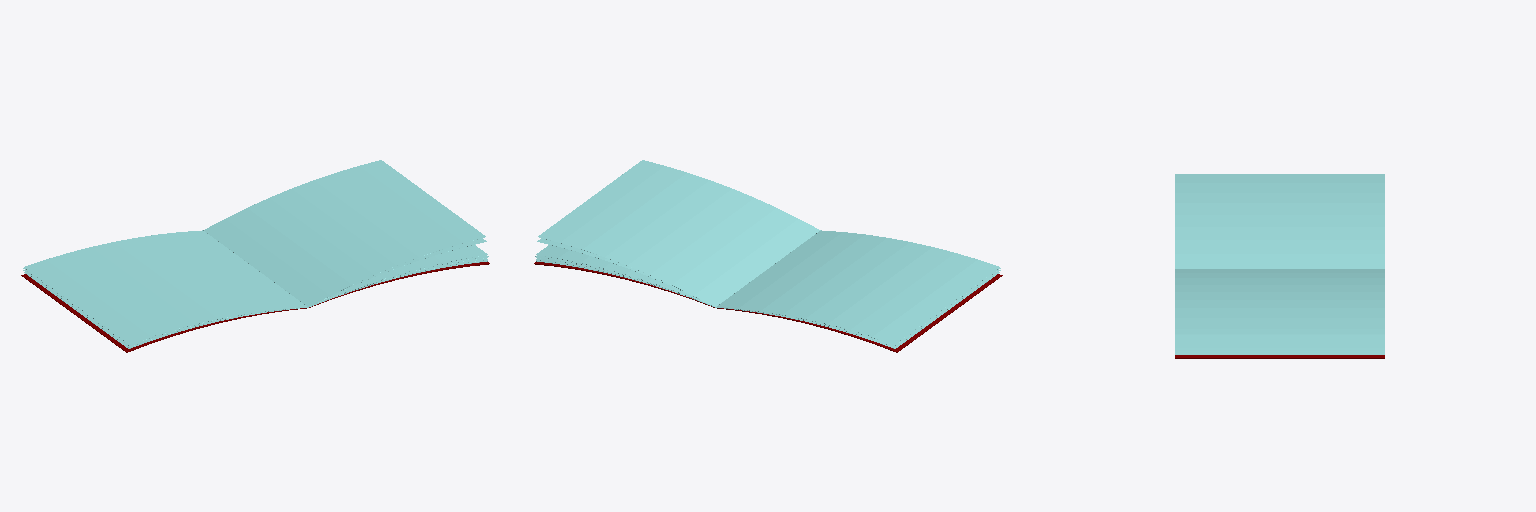
Rendered from bookmodel.obj.
3 renders of one model, left to right at view 1: azimuth 30°, elevation 25°; view 2: azimuth 150°, elevation 25°; view 3: azimuth 270°, elevation 25°, orthographic.
Parts seen in each view (by area): view 1: ChamferBox014, ChamferBox005, ChamferBox012, ChamferBox011; view 2: ChamferBox014, ChamferBox005, ChamferBox012, ChamferBox011; view 3: ChamferBox005, ChamferBox014, ChamferBox011, ChamferBox013, ChamferBox012.
Part boxes in pixels (x1,y1,x2,y2): ChamferBox014: (203, 160, 485, 306); ChamferBox005: (24, 230, 308, 343); ChamferBox012: (21, 262, 489, 352); ChamferBox011: (313, 245, 487, 305); ChamferBox014: (538, 160, 820, 306); ChamferBox005: (715, 230, 999, 343); ChamferBox012: (534, 262, 1002, 352); ChamferBox011: (536, 245, 710, 305); ChamferBox005: (1175, 174, 1384, 268); ChamferBox014: (1175, 269, 1384, 328); ChamferBox011: (1175, 334, 1384, 347); ChamferBox013: (1175, 329, 1384, 333); ChamferBox012: (1175, 355, 1384, 358).
Size of the model in its own units: 106 by 7.87 by 53.26.